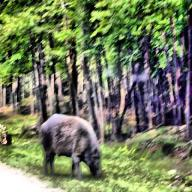boar: (37, 114, 105, 180)
